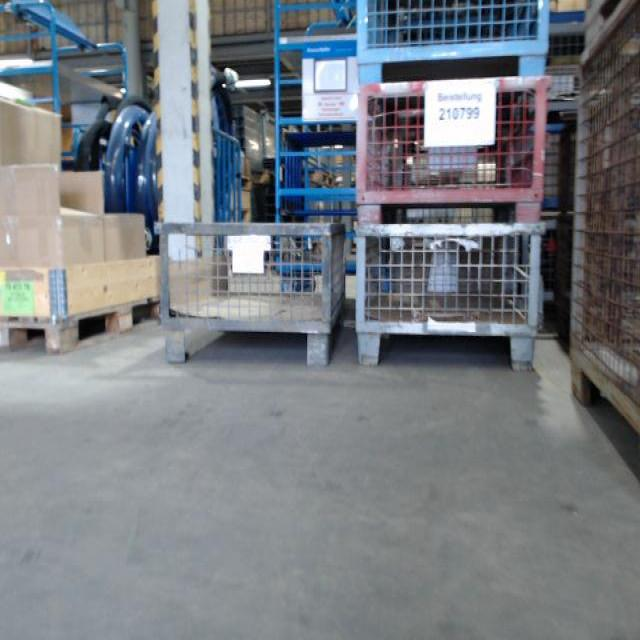pallet: (0, 292, 163, 356)
stillage: (563, 2, 639, 476), (348, 64, 559, 222), (340, 218, 551, 374), (147, 215, 351, 369), (350, 4, 558, 73)
